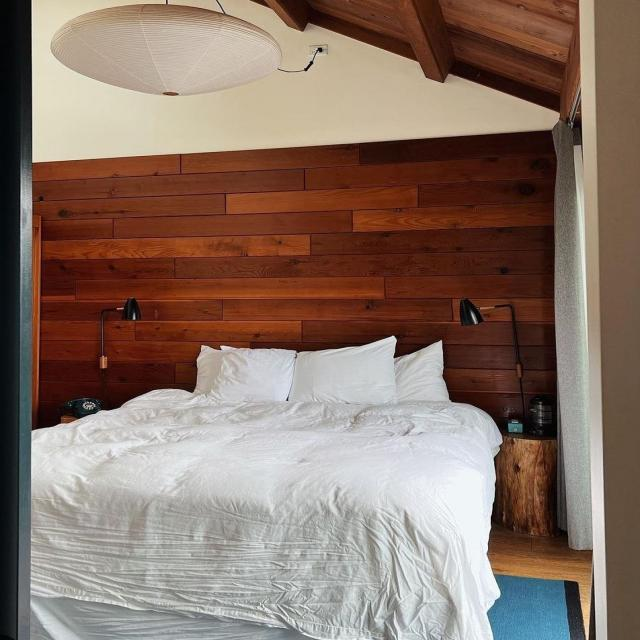bed: (34, 322, 498, 610)
